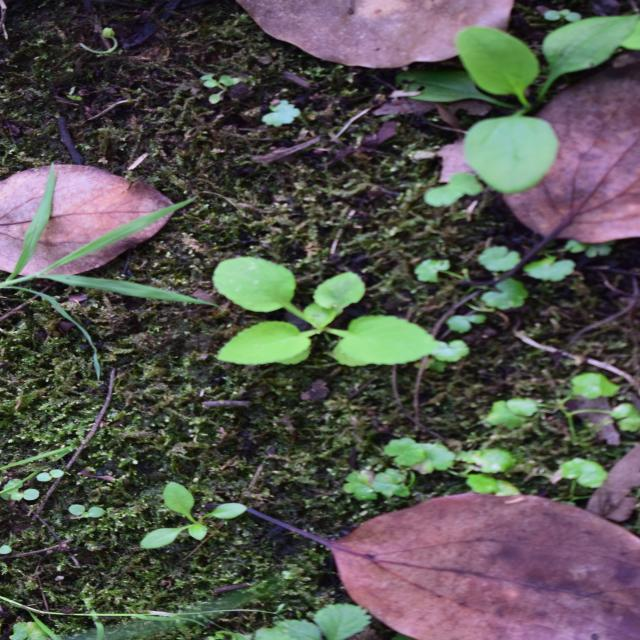Viola: (237, 201, 402, 424)
